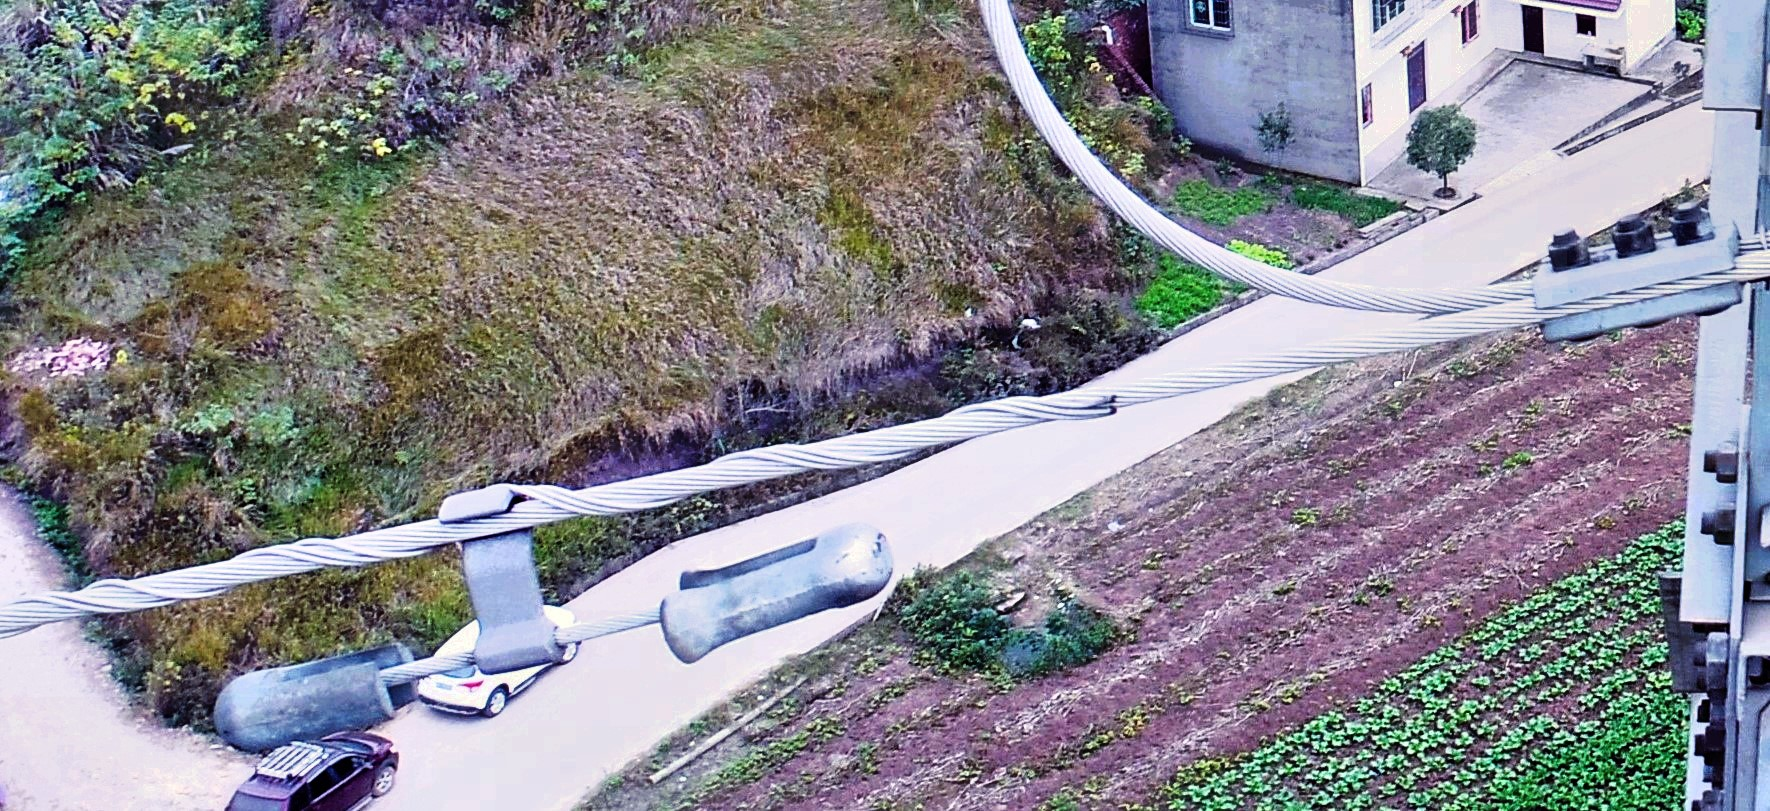Shockproof hammer: (201, 422, 904, 758)
